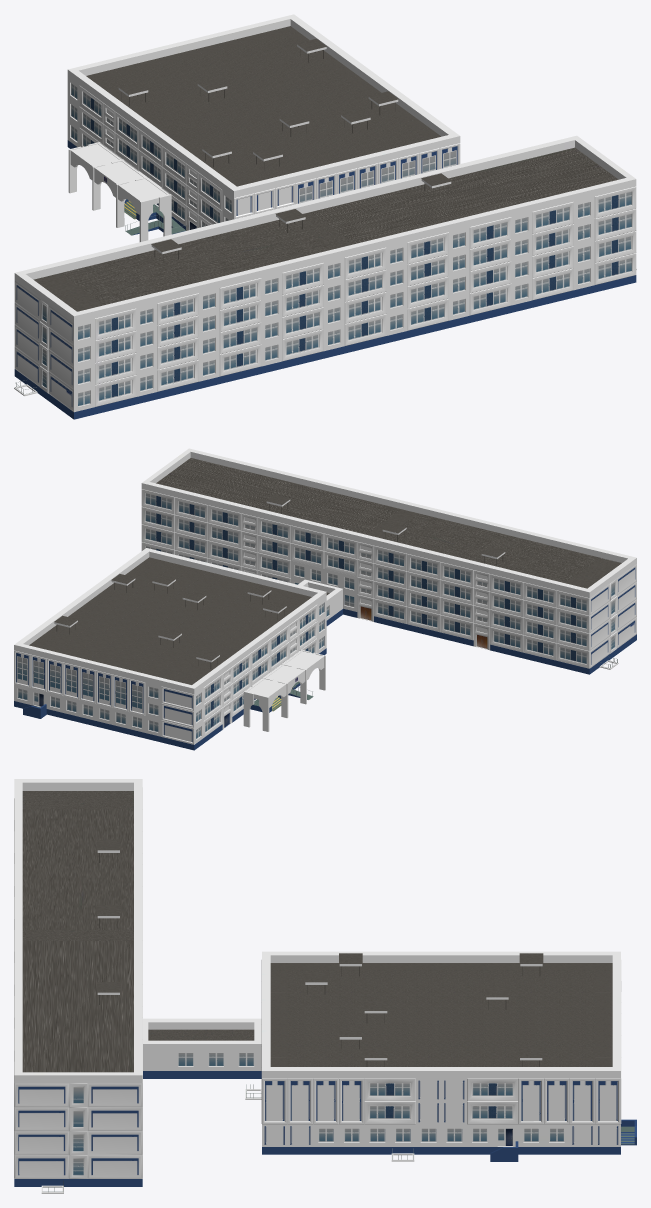
Rendered from school_building.glb.
3 renders of one model, top to bottom at view 1: azimuth 30°, elevation 25°; view 2: azimuth 150°, elevation 25°; view 3: azimuth 270°, elevation 25°, orthographic. The views are drawn at different scales.
Visible parts, largest first — view 1: Object_4, Object_7, Object_10, Object_9, Object_6, Object_3; view 2: Object_4, Object_7, Object_10, Object_9, Object_5, Object_6, Object_3; view 3: Object_7, Object_4, Object_5, Object_9, Object_6, Object_3.
Part boxes in pixels (x1,y1,x2,y2): Object_4: [14, 135, 636, 419]; Object_7: [67, 14, 460, 230]; Object_10: [68, 142, 171, 241]; Object_9: [118, 38, 451, 262]; Object_6: [14, 44, 636, 396]; Object_3: [124, 199, 185, 235]; Object_4: [141, 448, 636, 674]; Object_7: [14, 548, 326, 750]; Object_10: [243, 649, 325, 731]; Object_9: [54, 495, 505, 668]; Object_5: [298, 579, 342, 625]; Object_6: [54, 499, 618, 669]; Object_3: [23, 681, 313, 718]; Object_7: [261, 951, 621, 1154]; Object_4: [14, 779, 142, 1186]; Object_5: [143, 1018, 261, 1078]; Object_9: [97, 839, 543, 1066]; Object_6: [41, 850, 542, 1193]; Object_3: [490, 1119, 636, 1161].
Size of the model in its own units: 2.6 by 0.4606 by 2.21.
8 materials, 6 textured.
